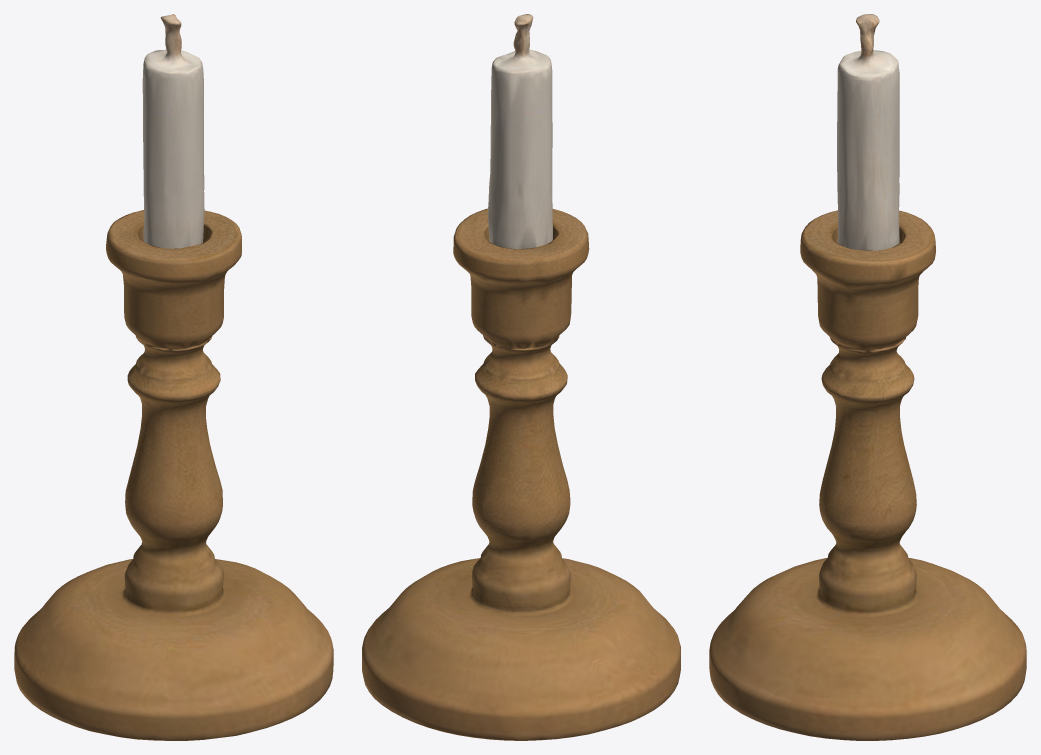
The model's file is candle.glb.
3 renders of one model, left to right at view 1: azimuth 30°, elevation 25°; view 2: azimuth 150°, elevation 25°; view 3: azimuth 270°, elevation 25°, orthographic.
Parts seen in each view (by area): view 1: tripo_node_302303a0-a173-4a01-ae43-2cb2ac32937a; view 2: tripo_node_302303a0-a173-4a01-ae43-2cb2ac32937a; view 3: tripo_node_302303a0-a173-4a01-ae43-2cb2ac32937a.
Boxes of the visible parts, left/top/right/bottom form: tripo_node_302303a0-a173-4a01-ae43-2cb2ac32937a: left=14, top=14, right=333, bottom=740; tripo_node_302303a0-a173-4a01-ae43-2cb2ac32937a: left=362, top=14, right=680, bottom=740; tripo_node_302303a0-a173-4a01-ae43-2cb2ac32937a: left=709, top=14, right=1026, bottom=740.
Size of the model in its own units: 0.4341 by 0.9995 by 0.4331.
Materials: 1 (1 with a texture image).
